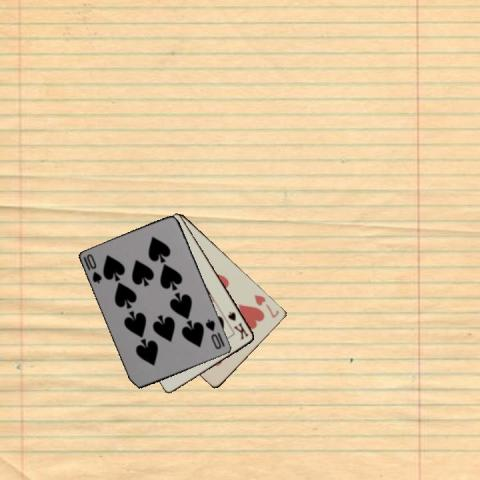10s: (203, 316, 223, 350), (84, 251, 104, 285)
7h: (251, 292, 281, 320)
Ks: (225, 308, 250, 340)
